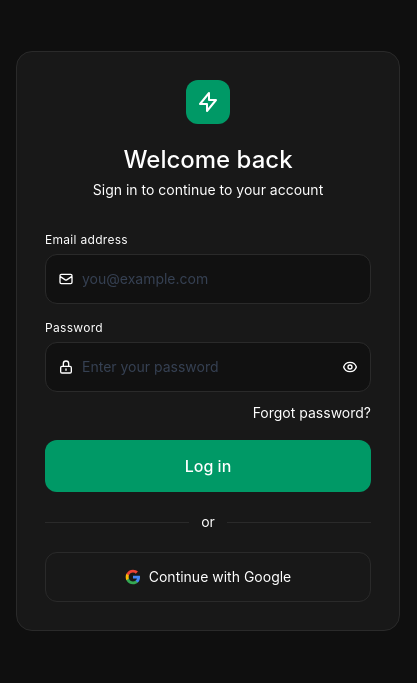
it: Login Component › shows error message on failed login
The width and height of the screenshot is (417, 683).
Step 1. Type "wrong@ems.com" into the field with placeholder "you@example.com" → (220, 279), box 82,255 -> 358,303
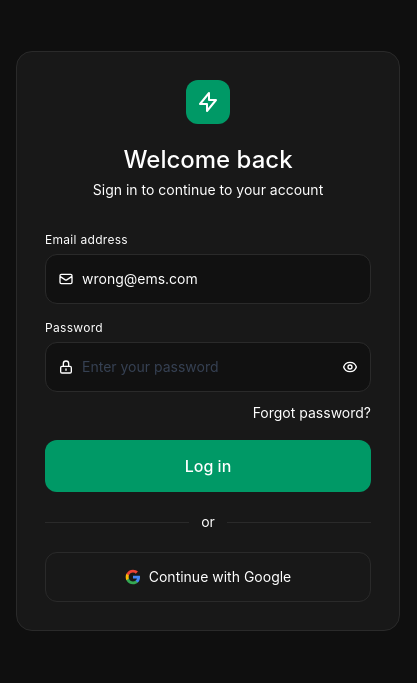
Step 2. Type "wrongpass" into the password field with placeholder "Enter your password" → (208, 367), box 82,343 -> 334,391
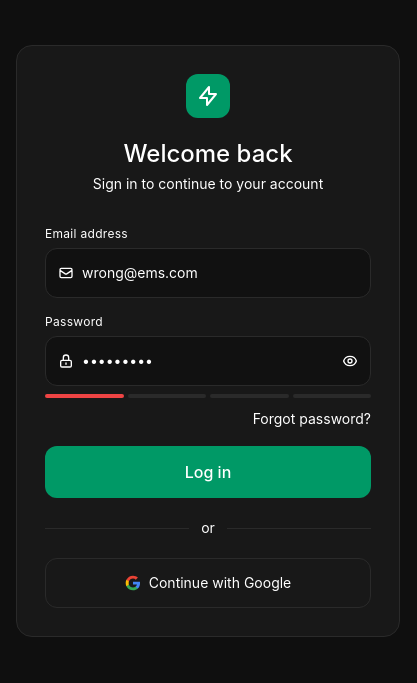
Step 3. Click the button "Log in" → (208, 472), box 45,446 -> 371,498
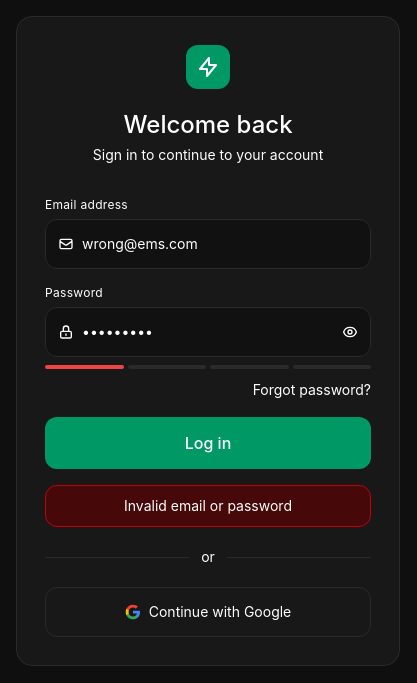
Check: the text "Invalid email or password" is shown, box 45,485 -> 371,527
